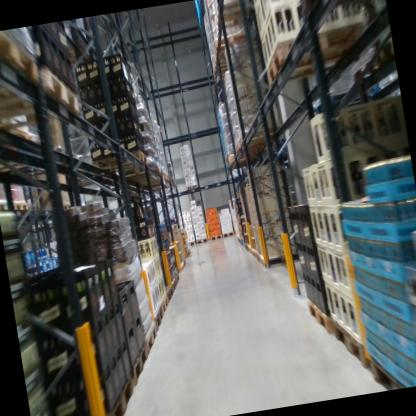pallet: (256, 17, 373, 90), (0, 52, 86, 133), (0, 26, 46, 97), (328, 311, 369, 374), (209, 25, 264, 63), (368, 346, 410, 391), (99, 371, 139, 416), (293, 0, 383, 20), (91, 145, 150, 175), (125, 338, 155, 391), (305, 292, 334, 345), (258, 241, 308, 270), (211, 0, 257, 30), (65, 36, 96, 69), (232, 135, 278, 157), (237, 124, 274, 150), (113, 160, 161, 180), (127, 166, 166, 186), (227, 149, 268, 166), (141, 320, 160, 356), (150, 302, 168, 335), (11, 195, 30, 215), (159, 294, 171, 318), (0, 198, 14, 218), (59, 200, 78, 214), (159, 284, 174, 301), (185, 182, 202, 193), (168, 278, 178, 294), (255, 247, 265, 263), (173, 261, 185, 274), (209, 232, 223, 243), (219, 228, 236, 237), (250, 246, 257, 261), (173, 272, 181, 285), (246, 241, 254, 254), (186, 238, 196, 248), (195, 238, 208, 244), (181, 259, 187, 267)
